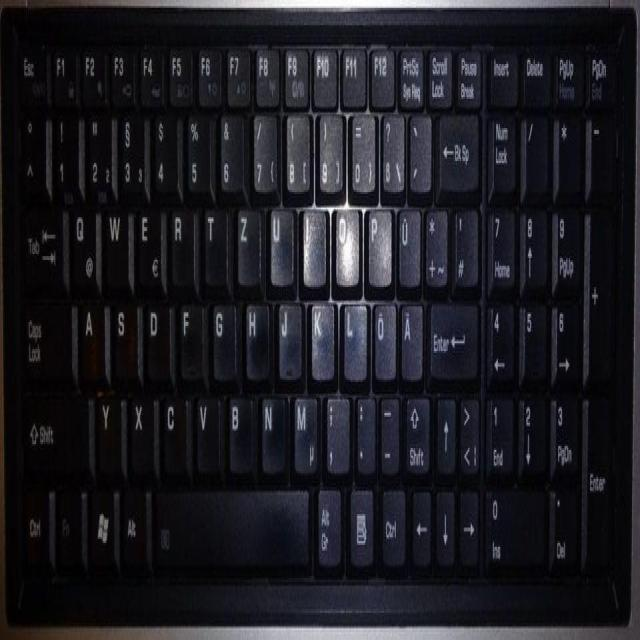0: (347, 103, 374, 188)
1: (50, 105, 78, 188)
2: (85, 107, 110, 192)
3: (115, 105, 143, 190)
4: (150, 105, 176, 188)
5: (183, 105, 209, 188)
6: (217, 107, 242, 188)
7: (250, 107, 276, 188)
8: (282, 105, 309, 190)
9: (314, 103, 341, 190)
a: (78, 293, 103, 376)
accent: (406, 105, 430, 188)
ae: (398, 295, 421, 378)
alt-left: (119, 479, 146, 564)
altgr-right: (314, 479, 339, 562)
b: (225, 386, 251, 469)
c: (160, 386, 186, 471)
caret: (17, 107, 43, 192)
comma: (323, 388, 348, 469)
d: (143, 295, 169, 376)
del: (435, 105, 477, 188)
e: (135, 198, 161, 283)
enter: (426, 291, 476, 374)
f: (178, 295, 202, 374)
g: (210, 295, 234, 374)
h: (242, 293, 267, 374)
hash: (451, 202, 477, 285)
i: (299, 198, 325, 281)
j: (275, 293, 300, 374)
k: (307, 291, 333, 376)
keyboard: (1, 2, 634, 622)
l: (340, 293, 366, 378)
less: (457, 388, 478, 473)
m: (290, 386, 316, 469)
minus: (377, 386, 398, 471)
n: (258, 386, 284, 469)
o: (330, 196, 357, 281)
oe: (370, 295, 394, 378)
p: (363, 198, 391, 283)
plus: (422, 198, 446, 283)
point: (354, 388, 374, 469)
q: (69, 198, 95, 289)
r: (168, 198, 193, 281)
s: (108, 291, 136, 376)
shift-left: (19, 380, 86, 471)
shift-lock: (18, 291, 70, 378)
shift-right: (405, 390, 429, 475)
space: (153, 481, 308, 566)
ss: (378, 105, 403, 188)
strg-left: (19, 479, 48, 562)
strg-right: (378, 479, 404, 562)
t: (201, 200, 225, 279)
tab: (16, 190, 61, 289)
u: (266, 200, 292, 281)
ue: (395, 198, 419, 285)
v: (194, 388, 217, 469)
w: (102, 196, 127, 283)
x: (127, 388, 152, 469)
y: (95, 386, 119, 469)
z: (235, 200, 258, 281)
